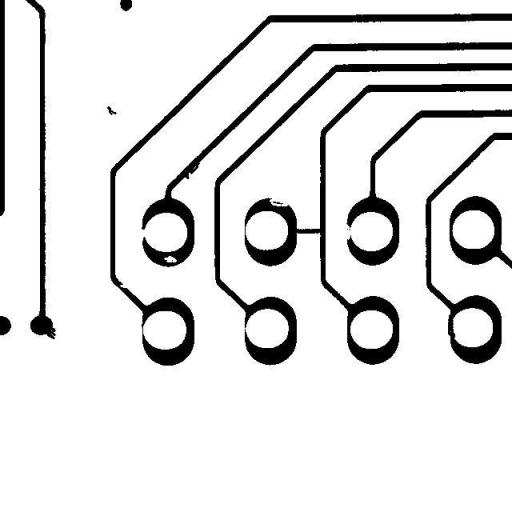copper: (99, 98, 124, 122)
mousebite: (260, 187, 298, 214), (112, 277, 135, 295)
open: (130, 220, 155, 249), (336, 217, 360, 247)
pin-hole: (158, 248, 184, 270)
short: (440, 304, 462, 347), (284, 221, 330, 241)
spur: (174, 154, 207, 186), (37, 316, 63, 346)
